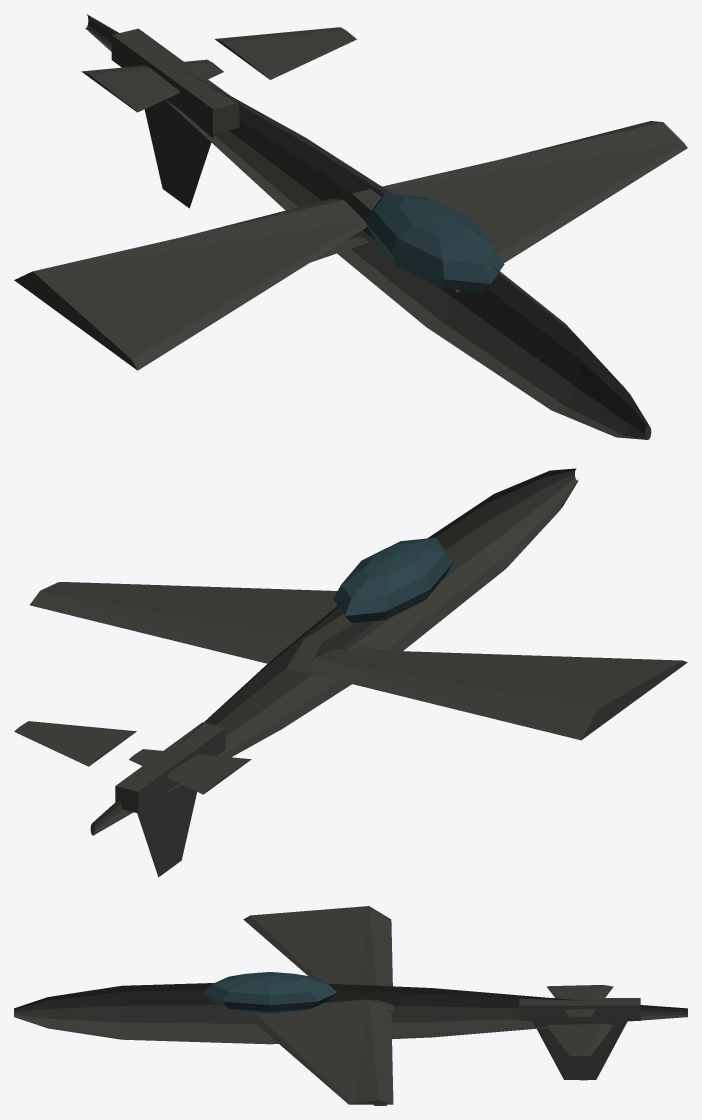
Rendered from f35_Destroyed.glb.
3 views of the same model, one above another, from view 1: azimuth 30°, elevation 25°; view 2: azimuth 150°, elevation 25°; view 3: azimuth 270°, elevation 25° (orthographic). The views are drawn at different scales.
Parts seen in each view (by area): view 1: Fuselage, Wing_L, Wing_R, Cockpit, TailBoom, Rudder, Elevator_R, Elevator_L; view 2: Fuselage, Wing_L, Wing_R, Cockpit, TailBoom, Rudder, Elevator_R, Elevator_L; view 3: Fuselage, Wing_R, Wing_L, Cockpit, TailBoom, Rudder, Elevator_R, Elevator_L.
Part boxes in pixels (x1,y1,x2,y2): Fuselage: [85, 14, 651, 439]; Wing_L: [14, 198, 367, 370]; Wing_R: [339, 121, 687, 292]; Cockpit: [364, 193, 504, 292]; TailBoom: [111, 28, 239, 134]; Rudder: [144, 100, 213, 208]; Elevator_R: [214, 27, 356, 79]; Elevator_L: [81, 59, 223, 112]; Fuselage: [90, 468, 578, 835]; Wing_L: [305, 649, 687, 740]; Wing_R: [30, 582, 377, 672]; Cockpit: [333, 537, 453, 623]; TailBoom: [115, 722, 225, 813]; Rudder: [137, 784, 196, 877]; Elevator_R: [14, 721, 136, 766]; Elevator_L: [129, 749, 251, 794]; Fuselage: [14, 983, 687, 1044]; Wing_R: [243, 999, 393, 1104]; Wing_L: [243, 906, 393, 1011]; Cockpit: [203, 972, 337, 1013]; TailBoom: [519, 998, 640, 1020]; Rudder: [532, 1021, 626, 1080]; Elevator_R: [546, 1023, 613, 1056]; Elevator_L: [547, 985, 613, 1017].
Size of the model in its own units: 10.27 by 2.67 by 15.67.
